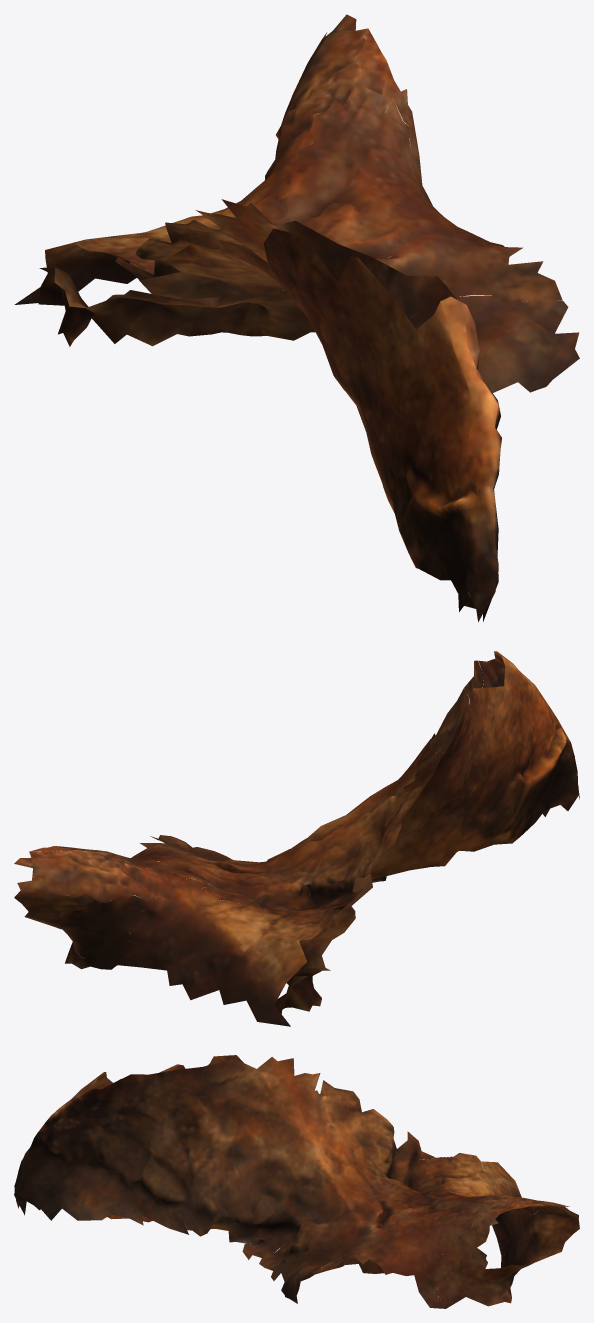
The model's file is Triceratops_FrillEdge.fbx.
The picture shows the model from 3 angles, top to bottom: view 1: azimuth 30°, elevation 25°; view 2: azimuth 150°, elevation 25°; view 3: azimuth 270°, elevation 25°; orthographic projection. The views are drawn at different scales.
Visible parts, largest first — view 1: Triceratops_FrillEdge; view 2: Triceratops_FrillEdge; view 3: Triceratops_FrillEdge.
Part boxes in pixels (x1,y1,x2,y2): Triceratops_FrillEdge: (14,14,579,621); Triceratops_FrillEdge: (14,651,579,1026); Triceratops_FrillEdge: (14,1055,579,1308).
Size of the model in its own units: 0.14 by 0.0985 by 0.3206.
1 material, 1 textured.
